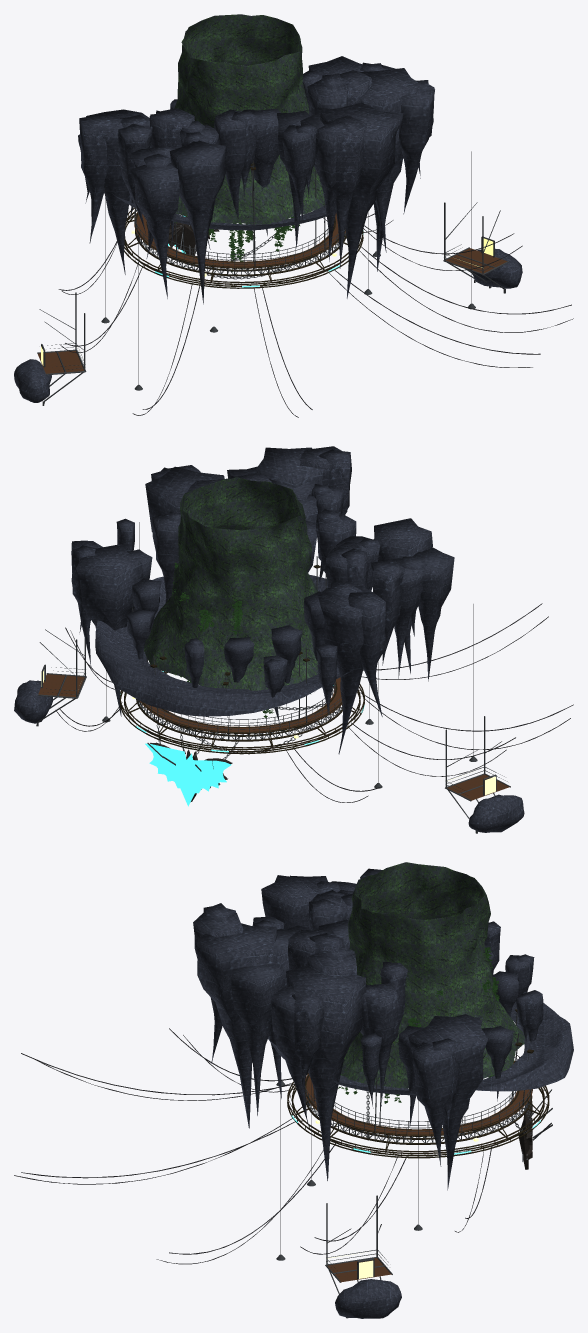
The model's file is area_teto.glb.
The picture shows the model from 3 angles, top to bottom: view 1: azimuth 30°, elevation 25°; view 2: azimuth 150°, elevation 25°; view 3: azimuth 270°, elevation 25°; orthographic projection. The views are drawn at different scales.
Parts seen in each view (by area): view 1: TET_oculo_garganta, TET_est_031, TET_est_003, TET_est_023, TET_est_006, TET_est_032, TET_cabos, TET_est_013, TET_est_005, TET_est_001, TET_anel_externo, TET_est_027 (+25 smaller); view 2: TET_oculo_garganta, TET_oculo_beico, TET_est_031, TET_est_022, TET_morcego_brilho, TET_est_032, TET_anel_externo, TET_cabos, TET_est_006, TET_est_001, TET_est_030, TET_est_003 (+28 smaller); view 3: TET_oculo_garganta, TET_est_001, TET_est_003, TET_oculo_beico, TET_est_022, TET_est_005, TET_est_026, TET_est_024, TET_cabos, TET_anel_externo, TET_est_010, TET_est_006 (+20 smaller).
Part boxes in pixels (x1,y1,x2,y2): TET_oculo_garganta: (174,14,324,224); TET_est_031: (79,109,151,274); TET_est_003: (320,102,402,298); TET_est_023: (317,115,367,268); TET_est_006: (170,140,225,304); TET_est_032: (130,162,179,298); TET_cabos: (58,213,573,417); TET_est_013: (214,109,257,223); TET_est_005: (399,80,434,214); TET_est_001: (360,68,423,271); TET_anel_externo: (124,207,363,288); TET_est_027: (282,124,315,223); TET_oculo_garganta: (144,477,318,690); TET_oculo_beico: (95,574,353,716); TET_est_031: (318,581,386,754); TET_est_022: (76,544,143,716); TET_morcego_brilho: (145,743,231,806); TET_est_032: (405,547,454,681); TET_anel_externo: (119,684,364,754); TET_cabos: (55,570,573,802); TET_est_006: (374,518,432,673); TET_est_001: (145,466,224,532); TET_est_030: (379,556,426,678); TET_est_003: (256,447,323,488); TET_oculo_garganta: (341,862,524,1088); TET_est_001: (286,965,366,1180); TET_est_003: (195,923,277,1128); TET_oculo_beico: (268,992,573,1095); TET_est_022: (408,1016,487,1190); TET_est_005: (271,986,324,1126); TET_est_026: (231,964,282,1115); TET_est_024: (412,1038,460,1166); TET_cabos: (14,1028,492,1264); TET_anel_externo: (287,1060,549,1158); TET_est_010: (360,983,398,1106); TET_est_006: (261,875,322,928).
Bounding box in the file's own units: 80.79 × 44.41 × 73.38.
13 materials, 6 textured.
